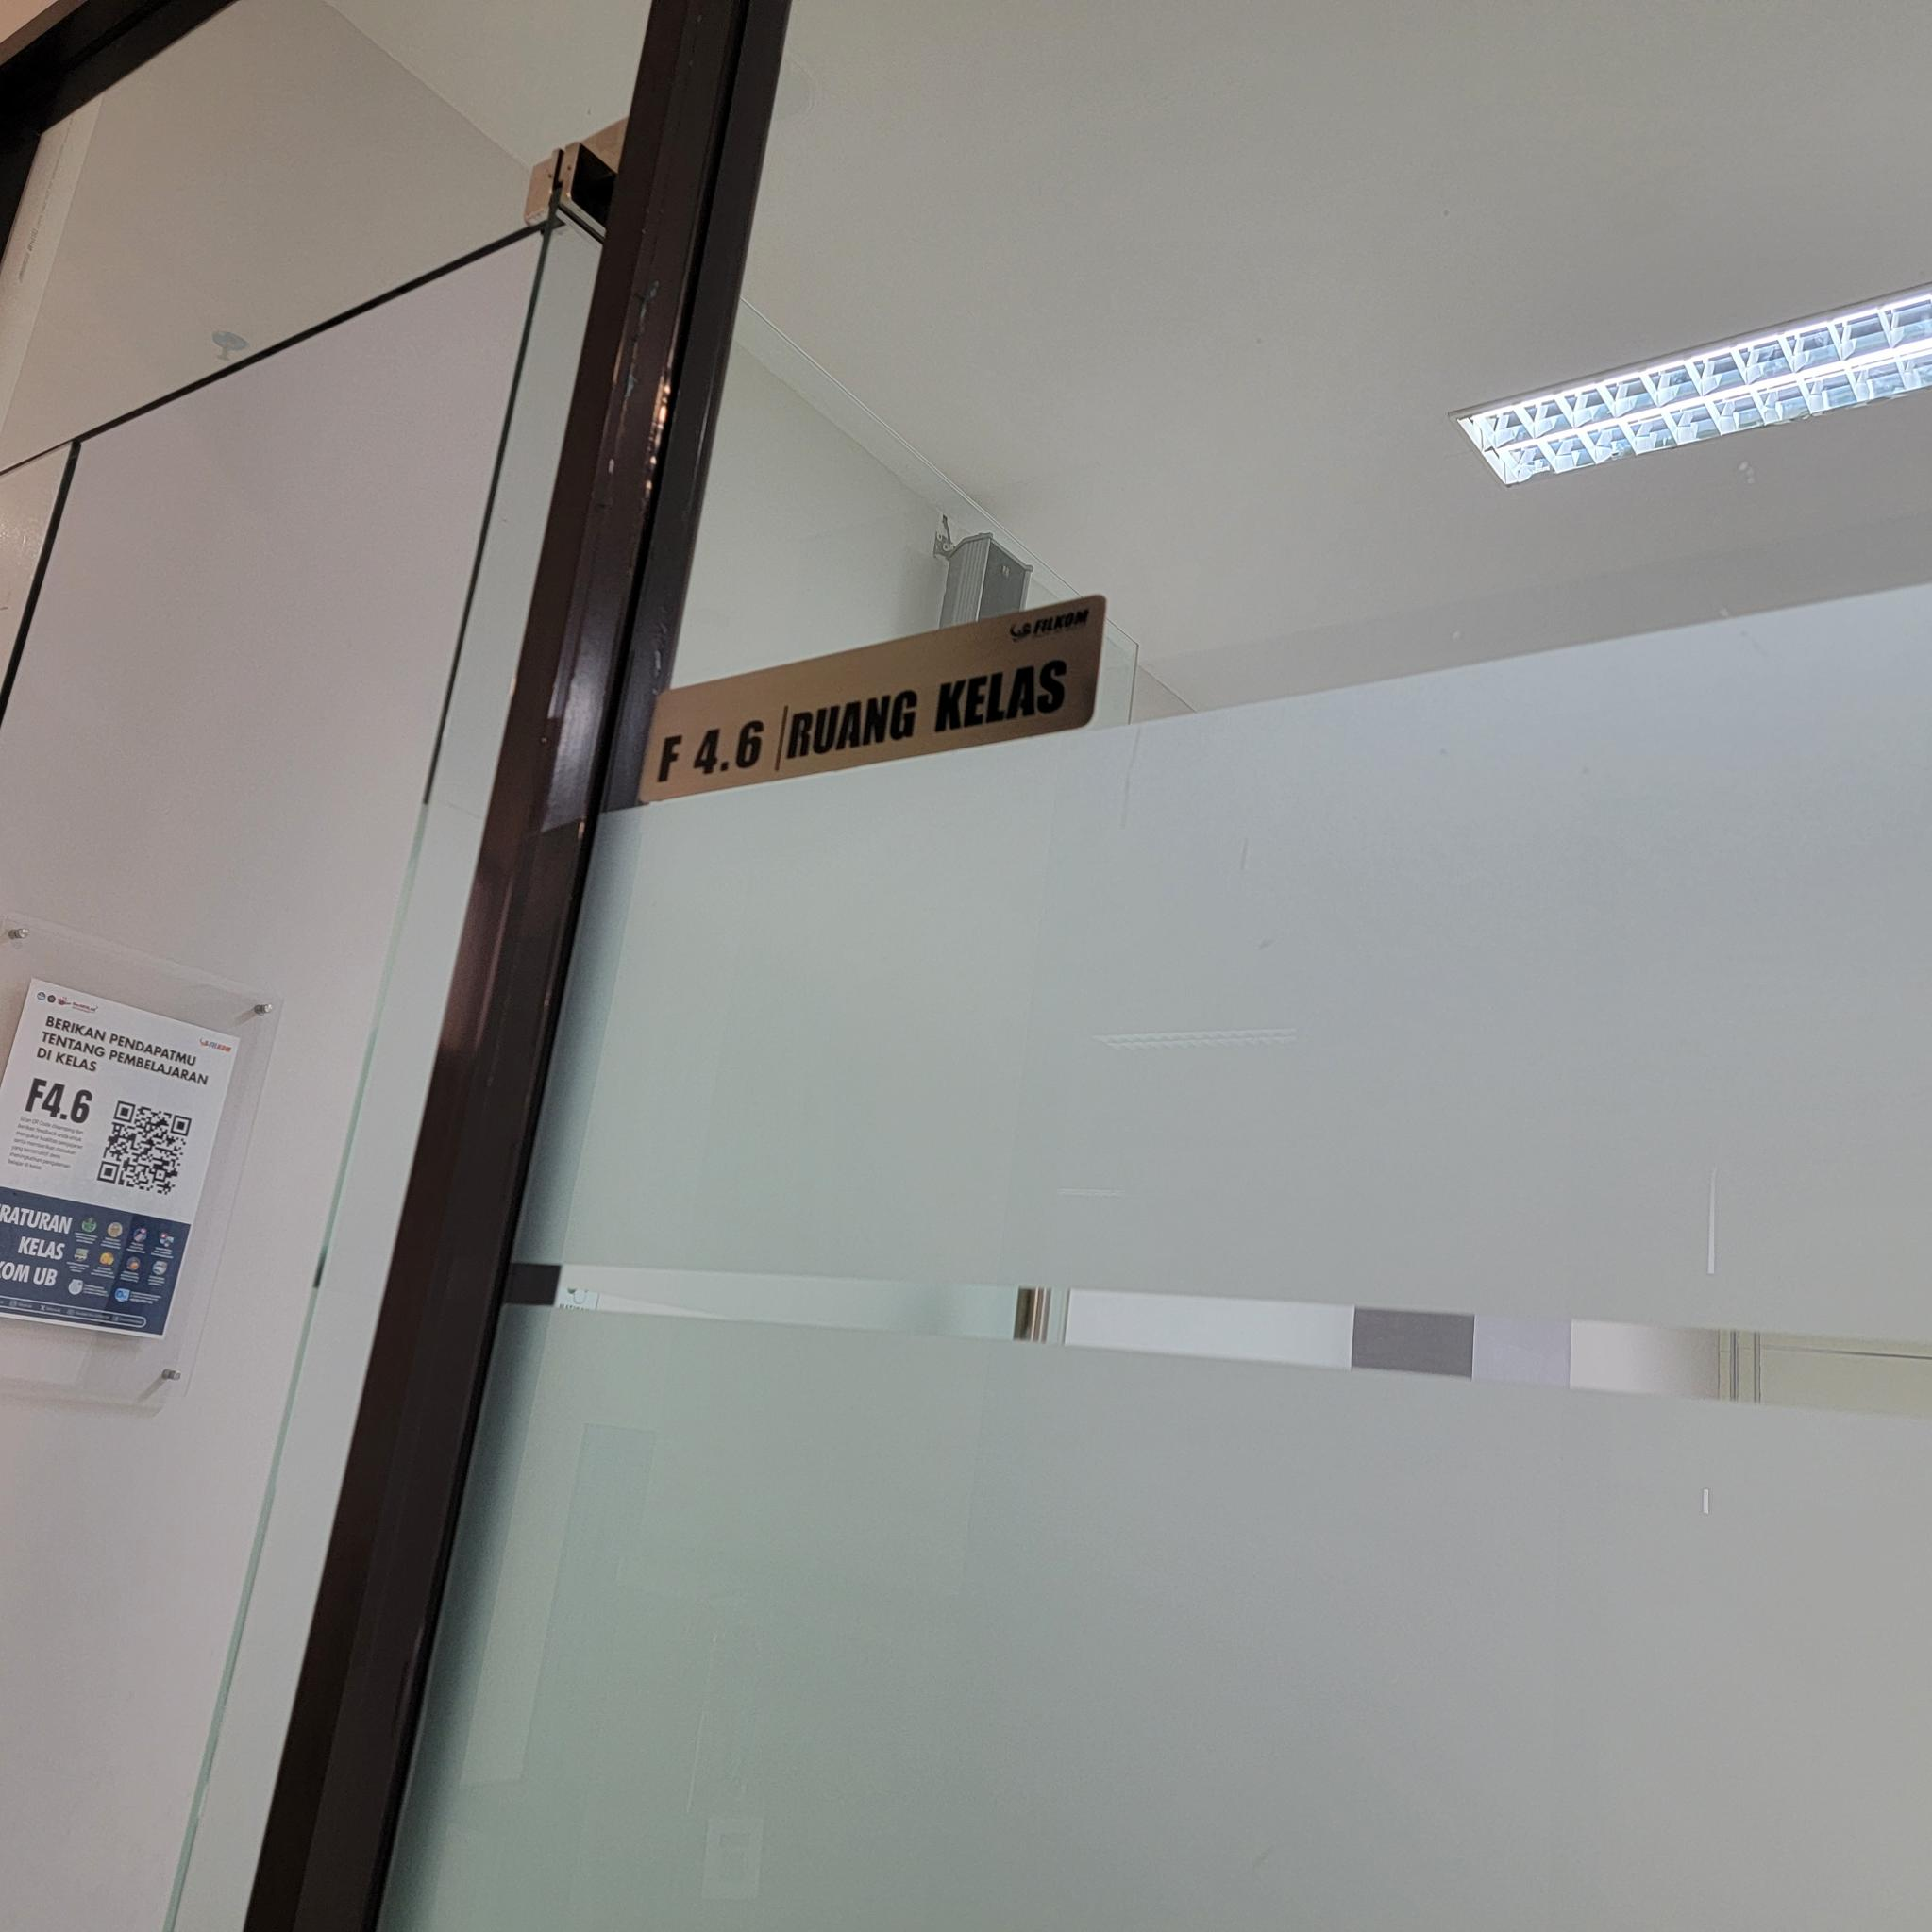plate: (635, 594, 1109, 807)
